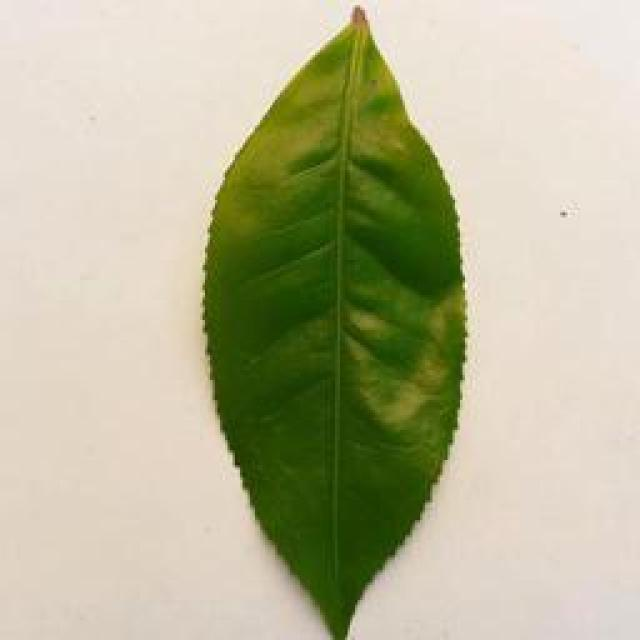Healthy: (164, 0, 472, 640)
